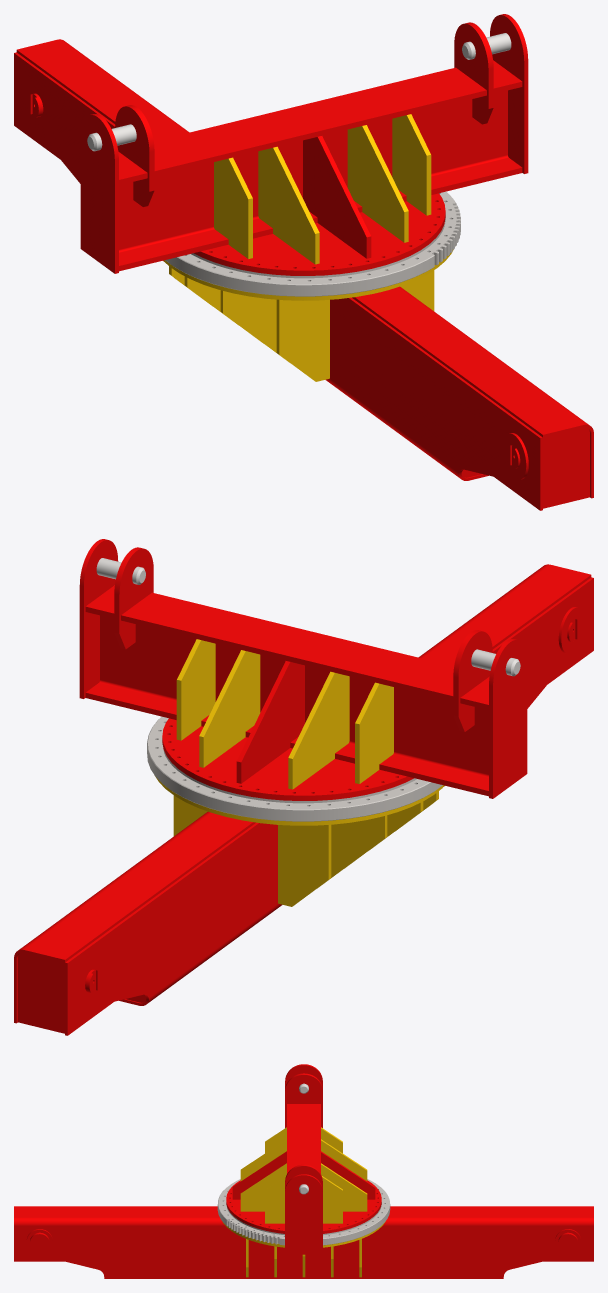
Rendered from BCL-GTV-001.glb.
3 views of the same model, one above another, from view 1: azimuth 30°, elevation 25°; view 2: azimuth 150°, elevation 25°; view 3: azimuth 270°, elevation 25° (orthographic). The views are drawn at different scales.
Visible parts, largest first — view 1: Ensamblado-1/Viga-1, Ensamblado 2-1/Placa 1 con refuerzos-1/placa 2-1, Ensamblado 2-1/Placa 1 con refuerzos-1/placa 1-1, Plataforma-1, TORNAMEZA INFERIOR-1, Ensamblado-1/tapas-1/Pieza lateral externa-1, REFUERZO 1-2, REFUERZO 2-4, REFUERZO 2-2, REFUERZO 3B-4, Ensamblado 2-1/Placa 1 con refuerzos-1/Pieza11-1, Ensamblado-1/tapas-3/Pieza lateral externa-1 (+9 smaller); view 2: Ensamblado-1/Viga-1, Ensamblado 2-1/Placa 1 con refuerzos-1/placa 2-1, Ensamblado 2-1/Placa 1 con refuerzos-1/placa 1-1, Plataforma-1, TORNAMEZA INFERIOR-1, Ensamblado-1/tapas-1/Pieza lateral externa-1, REFUERZO 1-1, REFUERZO 2-3, REFUERZO 2-1, REFUERZO 3B-1, Ensamblado 2-1/Placa 1 con refuerzos-1/Pieza11-2, Ensamblado-1/tapas-3/Pieza lateral externa-1 (+9 smaller); view 3: Ensamblado 2-1/Placa 1 con refuerzos-1/placa 1-1, Ensamblado-1/tapas-3/Pieza lateral externa-1, Ensamblado-1/Viga-1, TORNAMEZA INFERIOR-1, Plataforma-1, Pieza10^ENSAMBLE VIGA A-1, REFUERZO 2-1, REFUERZO 2-2, REFUERZO 3-1, REFUERZO 3-4, REFUERZO 1-2, REFUERZO 1-1 (+8 smaller).
Boxes of the visible parts, x1,y1,x2,y2 form: Ensamblado-1/Viga-1: (118,60,522,271); Ensamblado 2-1/Placa 1 con refuerzos-1/placa 2-1: (14,52,542,510); Ensamblado 2-1/Placa 1 con refuerzos-1/placa 1-1: (16,39,593,498); Plataforma-1: (194,193,445,275); TORNAMEZA INFERIOR-1: (165,191,460,296); Ensamblado-1/tapas-1/Pieza lateral externa-1: (80,114,118,273); REFUERZO 1-2: (303,136,371,258); REFUERZO 2-4: (258,146,319,264); REFUERZO 2-2: (347,125,408,242); REFUERZO 3B-4: (276,299,329,381); Ensamblado 2-1/Placa 1 con refuerzos-1/Pieza11-1: (543,427,589,508); Ensamblado-1/tapas-3/Pieza lateral externa-1: (490,14,528,173); Ensamblado-1/Viga-1: (85,585,489,796); Ensamblado 2-1/Placa 1 con refuerzos-1/placa 2-1: (65,577,593,1035); Ensamblado 2-1/Placa 1 con refuerzos-1/placa 1-1: (14,564,591,1023); Plataforma-1: (162,718,413,800); TORNAMEZA INFERIOR-1: (147,716,442,821); Ensamblado-1/tapas-1/Pieza lateral externa-1: (489,639,527,798); REFUERZO 1-1: (236,661,304,783); REFUERZO 2-3: (288,671,349,789); REFUERZO 2-1: (199,650,260,767); REFUERZO 3B-1: (278,824,331,906); Ensamblado 2-1/Placa 1 con refuerzos-1/Pieza11-2: (18,952,64,1033); Ensamblado-1/tapas-3/Pieza lateral externa-1: (79,539,118,698); Ensamblado 2-1/Placa 1 con refuerzos-1/placa 1-1: (14,1206,593,1277); Ensamblado-1/tapas-3/Pieza lateral externa-1: (285,1174,322,1254); Ensamblado-1/Viga-1: (287,1104,320,1173); TORNAMEZA INFERIOR-1: (217,1179,390,1245); Plataforma-1: (226,1180,381,1233); Pieza10^ENSAMBLE VIGA A-1: (285,1073,322,1115); REFUERZO 2-1: (321,1163,367,1211); REFUERZO 2-2: (240,1163,286,1211); REFUERZO 3-1: (322,1176,342,1223); REFUERZO 3-4: (265,1176,285,1223); REFUERZO 1-2: (232,1151,286,1199); REFUERZO 1-1: (321,1151,375,1199).
Bounding box in the file's own units: 2.11 × 1.31 × 4.5.
